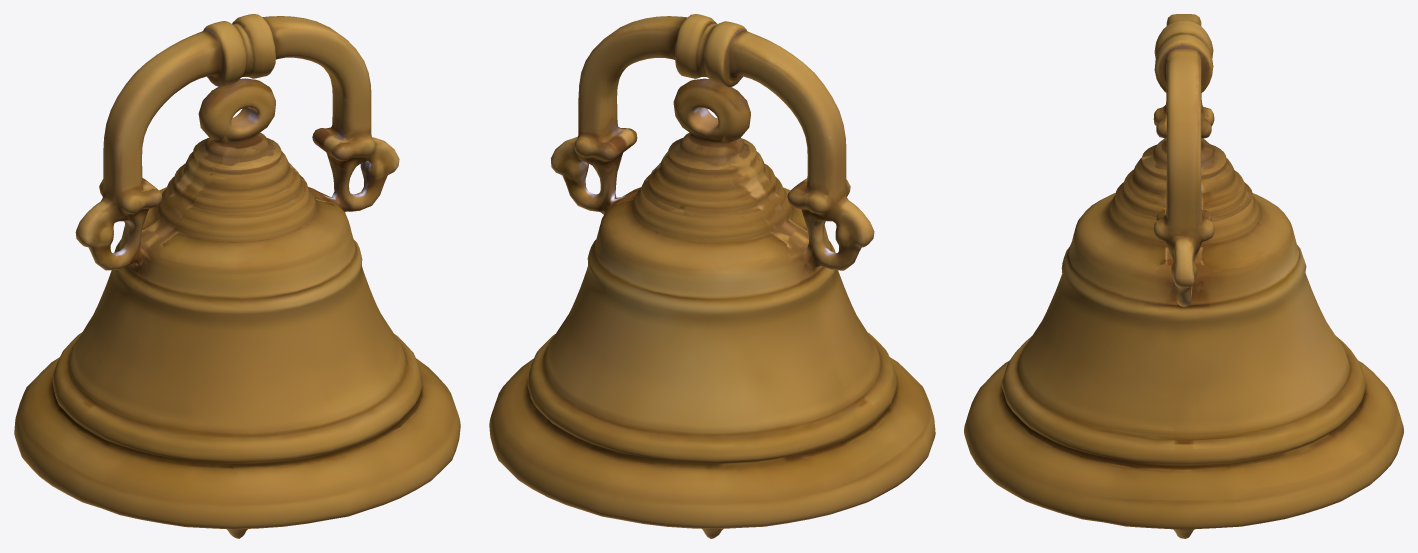
3 views of the same model, side by side, from view 1: azimuth 30°, elevation 25°; view 2: azimuth 150°, elevation 25°; view 3: azimuth 270°, elevation 25° (orthographic).
Parts seen in each view (by area): view 1: model; view 2: model; view 3: model.
Boxes of the visible parts, <box> form: model: <box>14,14,460,538</box>; model: <box>489,14,935,538</box>; model: <box>964,14,1403,538</box>.
Size of the model in its own units: 1.26 by 1.63 by 1.27.
1 material, 1 textured.
